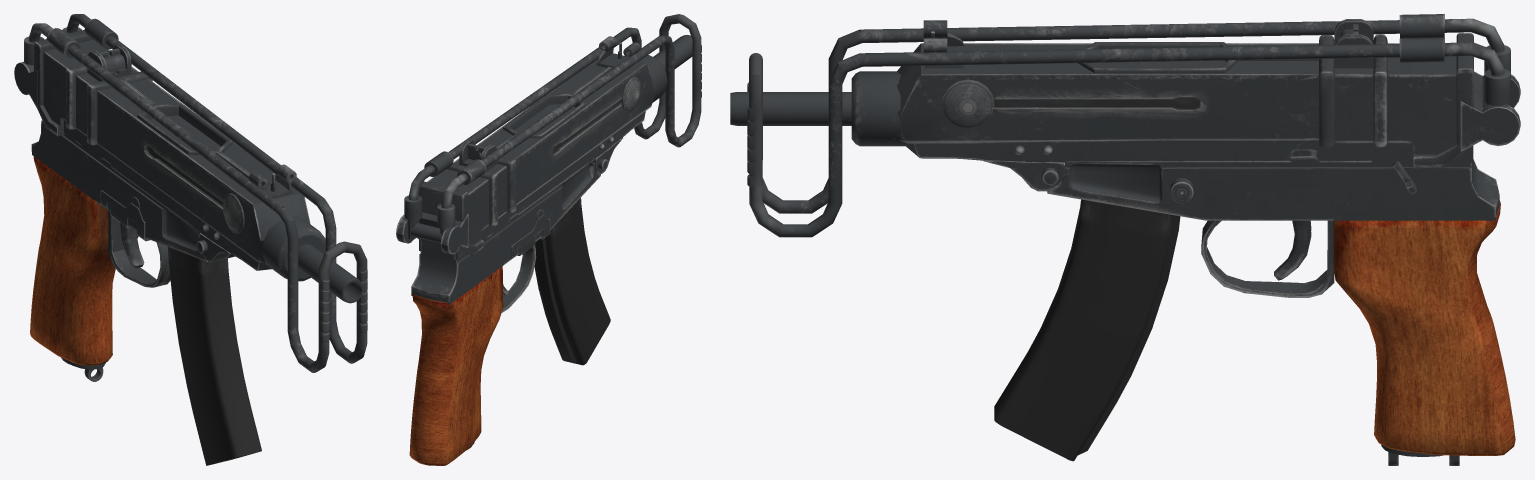
The picture shows the model from 3 angles, left to right: view 1: azimuth 30°, elevation 25°; view 2: azimuth 150°, elevation 25°; view 3: azimuth 270°, elevation 25°; orthographic projection. The views are drawn at different scales.
Parts seen in each view (by area): view 1: Body_Material.001, Magazine; view 2: Body_Material.001, Magazine; view 3: Body_Material.001, Magazine.
Boxes of the visible parts, <box> form: Body_Material.001: <box>14,14,367,381</box>; Magazine: <box>168,247,261,465</box>; Body_Material.001: <box>396,14,701,465</box>; Magazine: <box>534,198,610,365</box>; Body_Material.001: <box>730,14,1520,465</box>; Magazine: <box>994,178,1193,461</box>.
Size of the model in its own units: 0.066 by 0.3163 by 0.517.
1 material, 1 textured.
